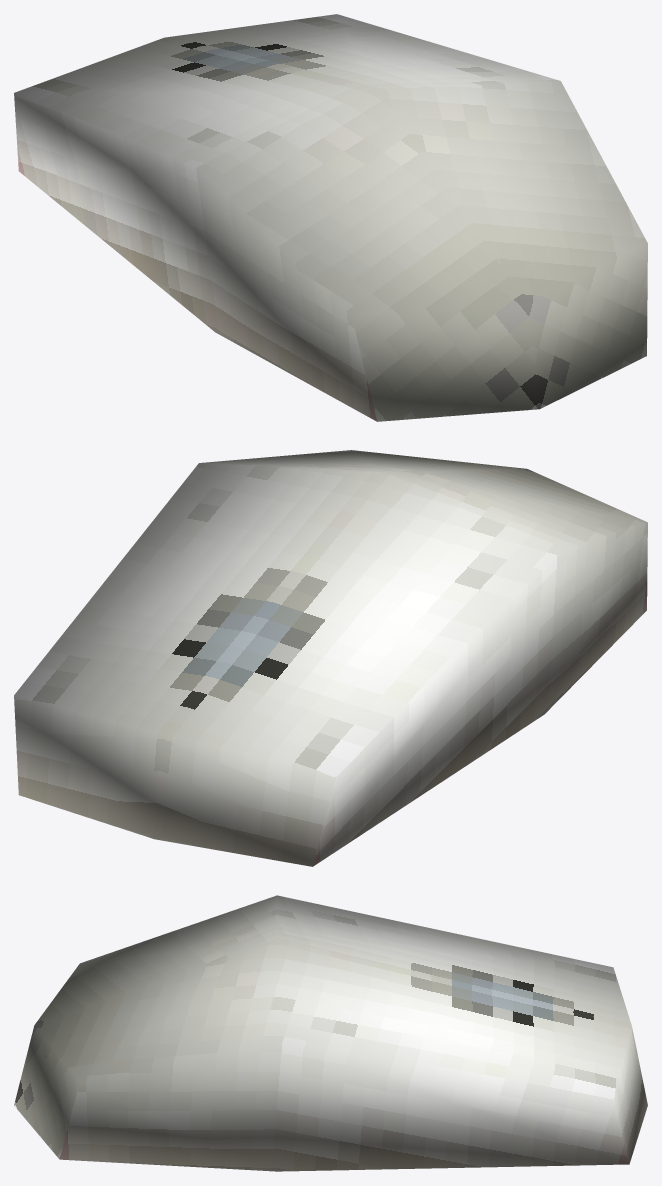
The model's file is Mouse.glb.
3 views of the same model, one above another, from view 1: azimuth 30°, elevation 25°; view 2: azimuth 150°, elevation 25°; view 3: azimuth 270°, elevation 25° (orthographic). The views are drawn at different scales.
Visible parts, largest first — view 1: mouse; view 2: mouse; view 3: mouse.
Part boxes in pixels (x1,y1,x2,y2): mouse: (14, 14, 647, 421); mouse: (14, 450, 647, 866); mouse: (14, 895, 647, 1171).
Size of the model in its own units: 0.065 by 0.0345 by 0.1199.
Materials: 1 (1 with a texture image).
